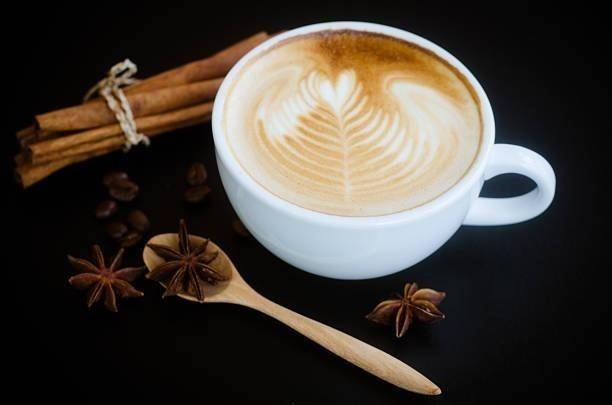cup-handle: (211, 20, 556, 283)
